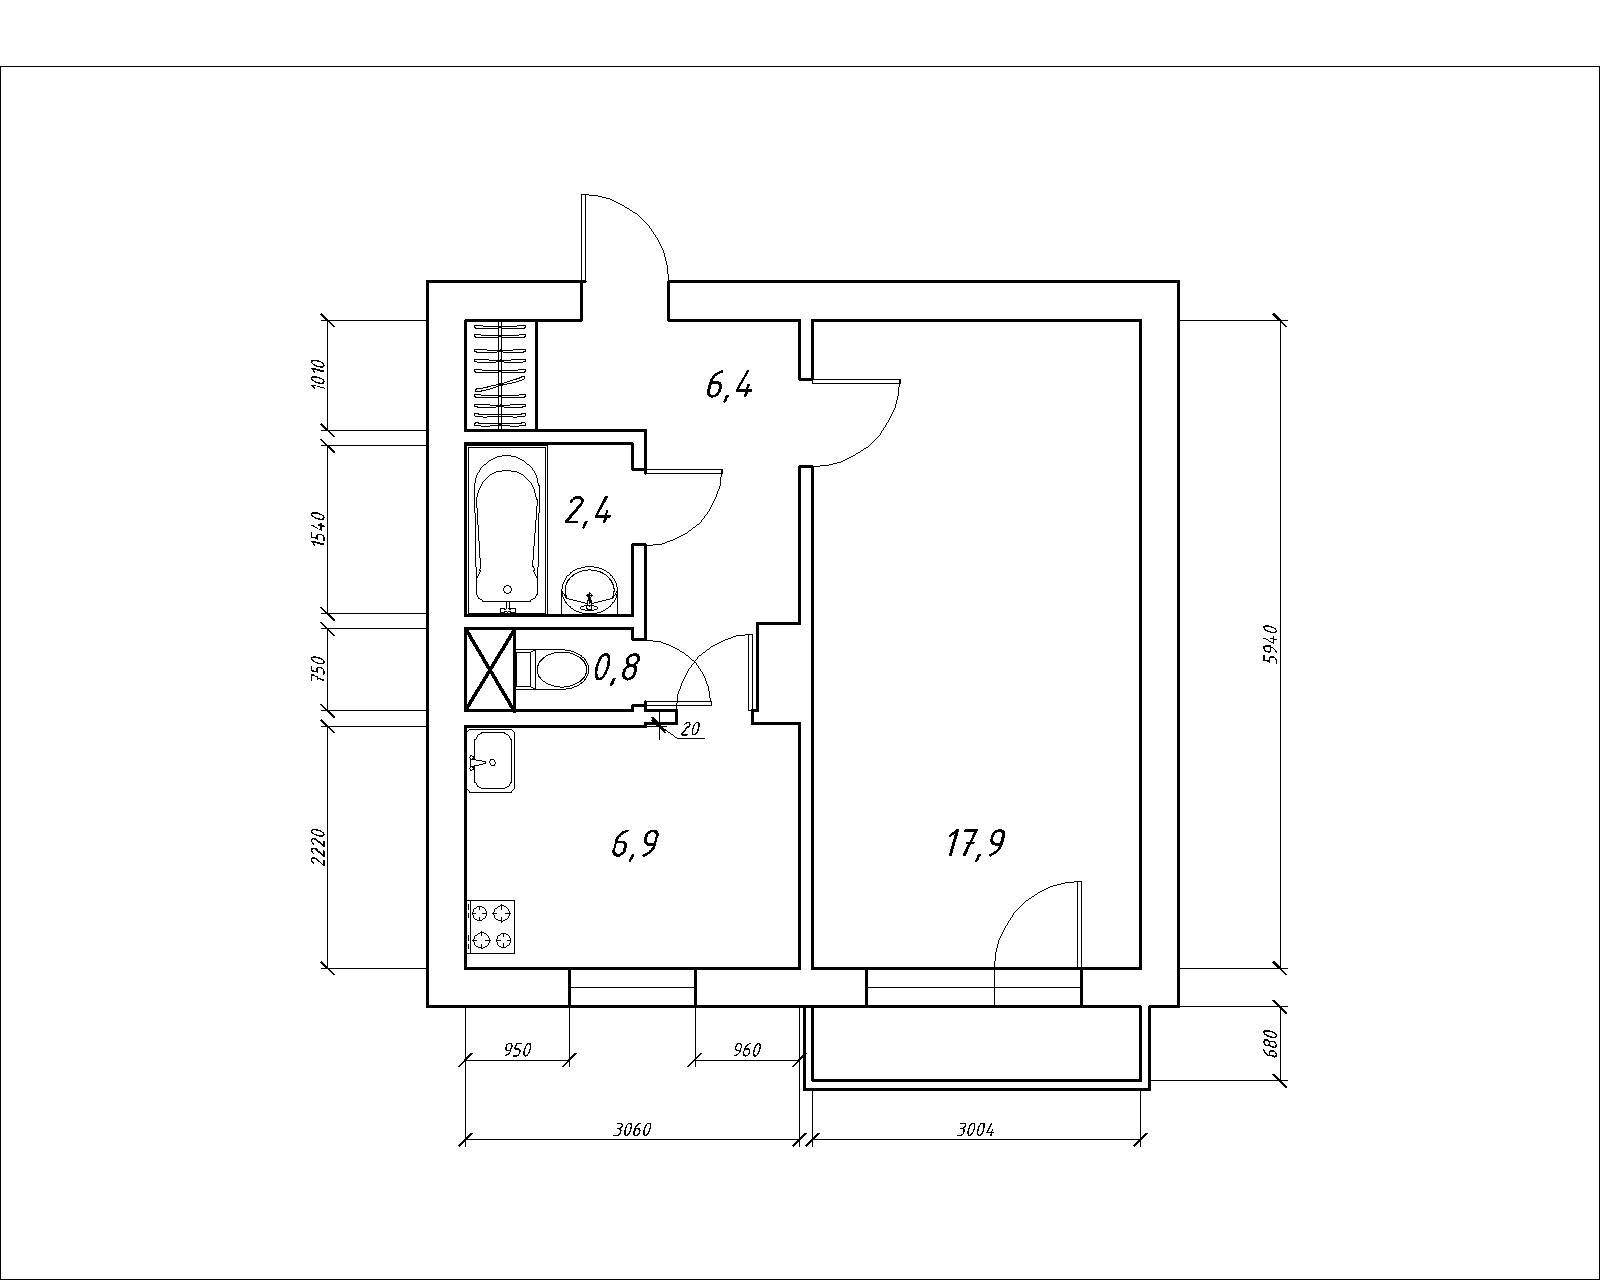balcony: (812, 1007, 1138, 1083)
bathroom: (467, 445, 633, 617)
bedroom: (813, 323, 1140, 970)
hallway: (463, 323, 805, 705)
kitchen: (465, 725, 800, 970)
toilet: (463, 628, 633, 708)
